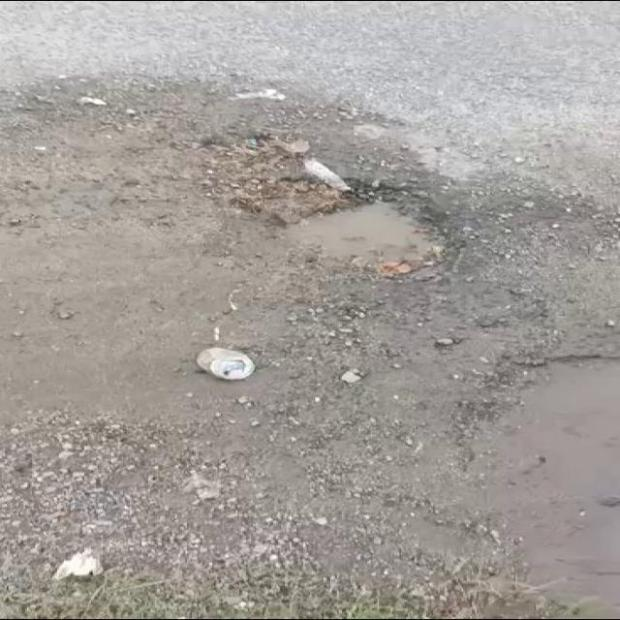lubang: (473, 358, 619, 616), (232, 158, 463, 275), (202, 135, 309, 172)
